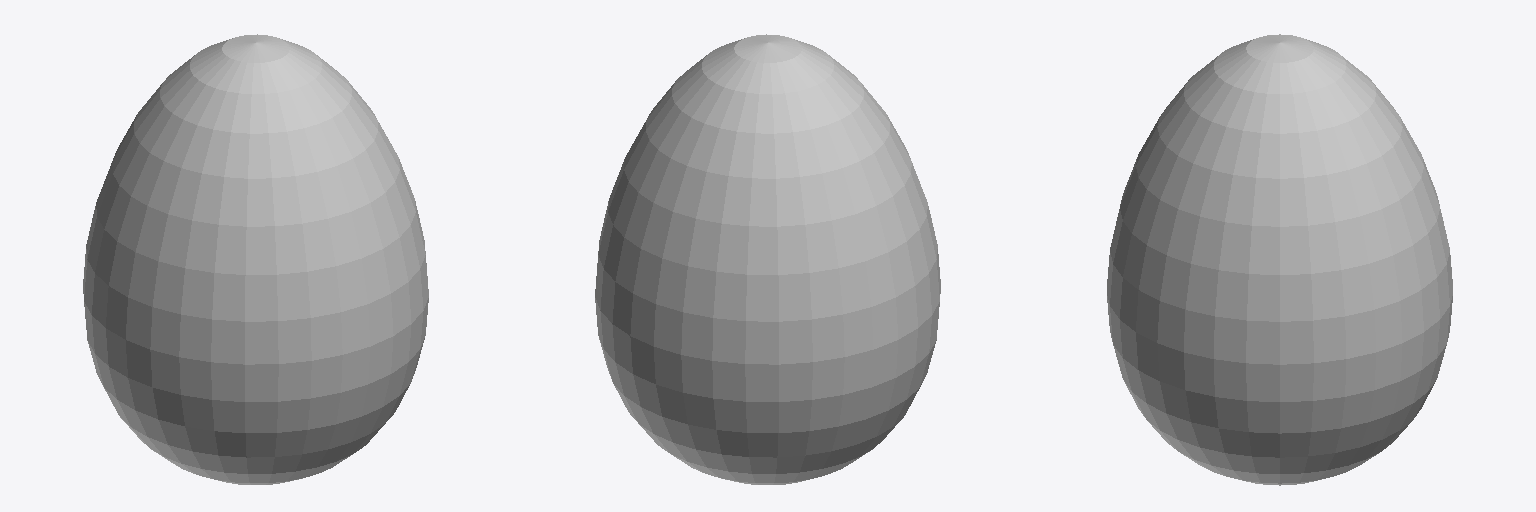
Rendered from huevo4.obj.
3 views of the same model, side by side, from view 1: azimuth 30°, elevation 25°; view 2: azimuth 150°, elevation 25°; view 3: azimuth 270°, elevation 25° (orthographic).
Visible parts, largest first — view 1: Egg05_Mat05_0.001; view 2: Egg05_Mat05_0.001; view 3: Egg05_Mat05_0.001.
Boxes of the visible parts, x1=… form: Egg05_Mat05_0.001: x1=83, y1=34, x2=428, y2=484; Egg05_Mat05_0.001: x1=595, y1=34, x2=940, y2=484; Egg05_Mat05_0.001: x1=1107, y1=34, x2=1452, y2=485.
Size of the model in its own units: 2 by 2.72 by 2.